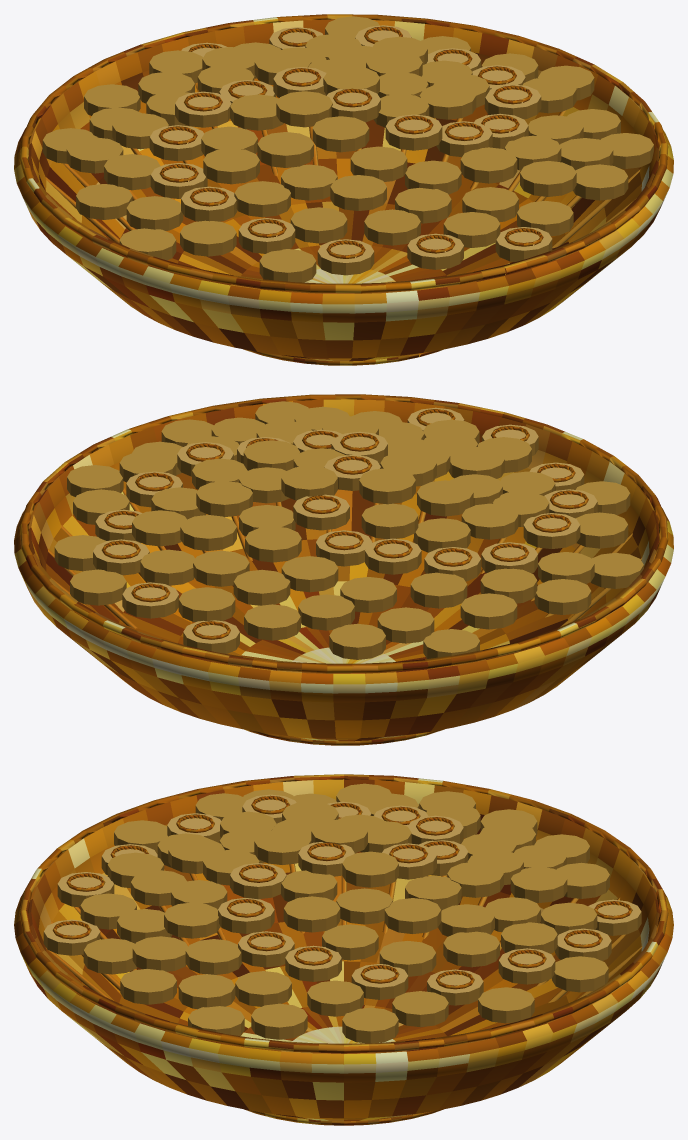
The model's file is gold-bowl.glb.
3 views of the same model, one above another, from view 1: azimuth 30°, elevation 25°; view 2: azimuth 150°, elevation 25°; view 3: azimuth 270°, elevation 25° (orthographic).
Visible parts, largest first — view 1: gold-bowl; view 2: gold-bowl; view 3: gold-bowl.
Part boxes in pixels (bbox=[...]): gold-bowl: bbox=[14, 14, 673, 365]; gold-bowl: bbox=[14, 394, 673, 745]; gold-bowl: bbox=[14, 774, 673, 1125].
Size of the model in its own units: 0.6381 by 0.2463 by 0.6381.
